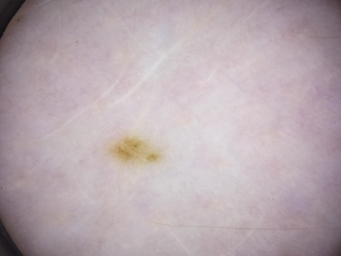seborrheic keratosis: (96, 119, 169, 174)
